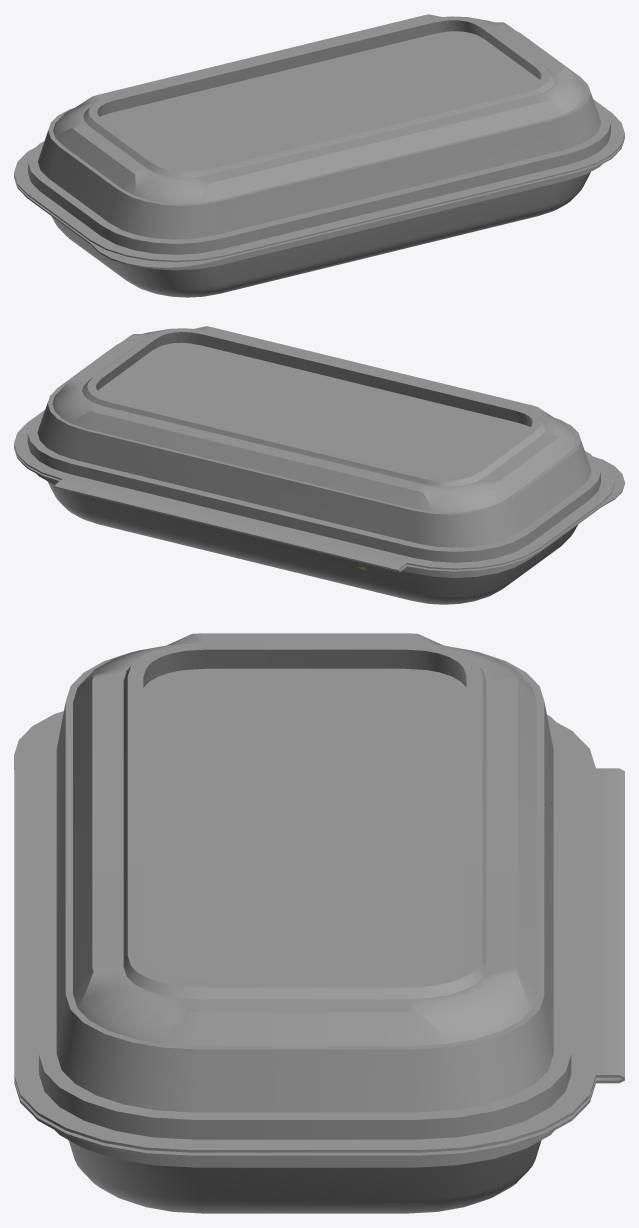
File: box of two.glb
3 renders of one model, top to bottom at view 1: azimuth 30°, elevation 25°; view 2: azimuth 150°, elevation 25°; view 3: azimuth 270°, elevation 25°, orthographic. The views are drawn at different scales.
Visible parts, largest first — view 1: Plane; view 2: Plane; view 3: Plane.
Boxes of the visible parts, x1=… form: Plane: x1=14, y1=14, x2=624, y2=297; Plane: x1=14, y1=326, x2=624, y2=604; Plane: x1=14, y1=633, x2=624, y2=1213.
Size of the model in its own units: 0.4681 by 0.1022 by 0.2635.
Materials: 11 (1 with a texture image).
